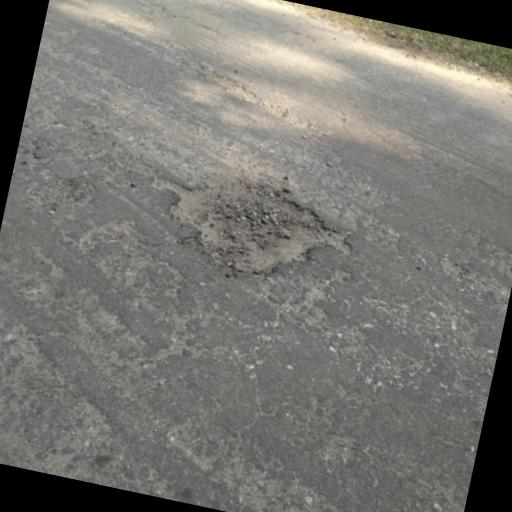pothole: (134, 156, 364, 297)
